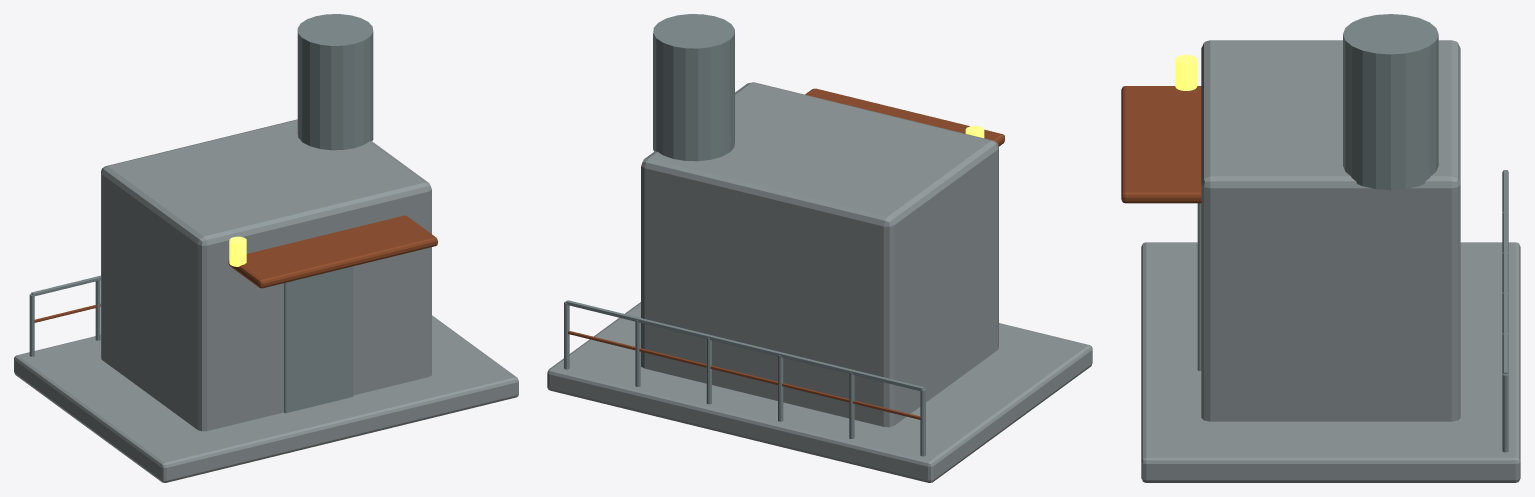
Rendered from SM_FC01_Building_RooftopShelter_A.fbx.
3 views of the same model, side by side, from view 1: azimuth 30°, elevation 25°; view 2: azimuth 150°, elevation 25°; view 3: azimuth 270°, elevation 25° (orthographic). The views are drawn at different scales.
Visible parts, largest first — view 1: SM_FC01_Building_RooftopShelter_A_Room, SM_FC01_Building_RooftopShelter_A_Base, SM_FC01_Building_RooftopShelter_A_Tank, SM_FC01_Building_RooftopShelter_A_Door, SM_FC01_Building_RooftopShelter_A_Awning; view 2: SM_FC01_Building_RooftopShelter_A_Room, SM_FC01_Building_RooftopShelter_A_Base, SM_FC01_Building_RooftopShelter_A_Tank, SM_FC01_Building_RooftopShelter_A_Rail_RailTop, SM_FC01_Building_RooftopShelter_A_Awning, SM_FC01_Building_RooftopShelter_A_Rail_RailMid; view 3: SM_FC01_Building_RooftopShelter_A_Room, SM_FC01_Building_RooftopShelter_A_Base, SM_FC01_Building_RooftopShelter_A_Tank, SM_FC01_Building_RooftopShelter_A_Awning, SM_FC01_Building_RooftopShelter_A_Rail_RailTop, SM_FC01_Building_RooftopShelter_A_Door, SM_FC01_Building_RooftopShelter_A_Lamp, SM_FC01_Building_RooftopShelter_A_Rail_Post_05.
Boxes of the visible parts, x1,y1,x2,y2 form: SM_FC01_Building_RooftopShelter_A_Room: [101, 119, 431, 431]; SM_FC01_Building_RooftopShelter_A_Base: [14, 315, 518, 482]; SM_FC01_Building_RooftopShelter_A_Tank: [297, 14, 373, 150]; SM_FC01_Building_RooftopShelter_A_Door: [284, 266, 353, 413]; SM_FC01_Building_RooftopShelter_A_Awning: [228, 215, 437, 288]; SM_FC01_Building_RooftopShelter_A_Room: [641, 82, 998, 427]; SM_FC01_Building_RooftopShelter_A_Base: [547, 302, 1092, 482]; SM_FC01_Building_RooftopShelter_A_Tank: [653, 14, 734, 161]; SM_FC01_Building_RooftopShelter_A_Rail_RailTop: [566, 300, 923, 390]; SM_FC01_Building_RooftopShelter_A_Awning: [805, 88, 1004, 146]; SM_FC01_Building_RooftopShelter_A_Rail_RailMid: [568, 331, 920, 419]; SM_FC01_Building_RooftopShelter_A_Room: [1201, 40, 1460, 421]; SM_FC01_Building_RooftopShelter_A_Base: [1141, 242, 1520, 482]; SM_FC01_Building_RooftopShelter_A_Tank: [1343, 14, 1438, 189]; SM_FC01_Building_RooftopShelter_A_Awning: [1121, 86, 1201, 203]; SM_FC01_Building_RooftopShelter_A_Rail_RailTop: [1503, 170, 1507, 374]; SM_FC01_Building_RooftopShelter_A_Door: [1197, 203, 1201, 370]; SM_FC01_Building_RooftopShelter_A_Lamp: [1175, 54, 1197, 90]; SM_FC01_Building_RooftopShelter_A_Rail_Post_05: [1502, 373, 1508, 452].
Bounding box in the file's own units: 5.2 × 4.4 × 4.
